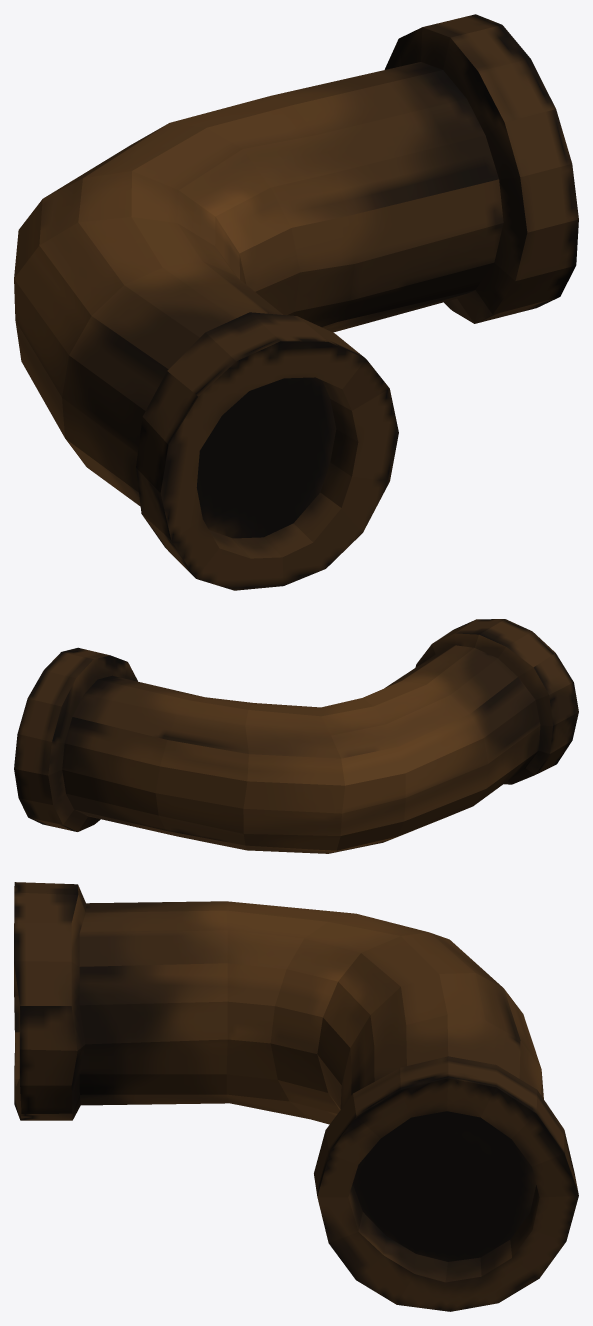
File: PipeCorner.fbx
The picture shows the model from 3 angles, top to bottom: view 1: azimuth 30°, elevation 25°; view 2: azimuth 150°, elevation 25°; view 3: azimuth 270°, elevation 25°; orthographic projection. The views are drawn at different scales.
Visible parts, largest first — view 1: PipeCorner; view 2: PipeCorner; view 3: PipeCorner.
Boxes of the visible parts, <box> form: PipeCorner: <box>14,14,578,590</box>; PipeCorner: <box>14,619,578,853</box>; PipeCorner: <box>14,882,578,1311</box>.
Bounding box in the file's own units: 1.3 × 0.5636 × 1.24.
